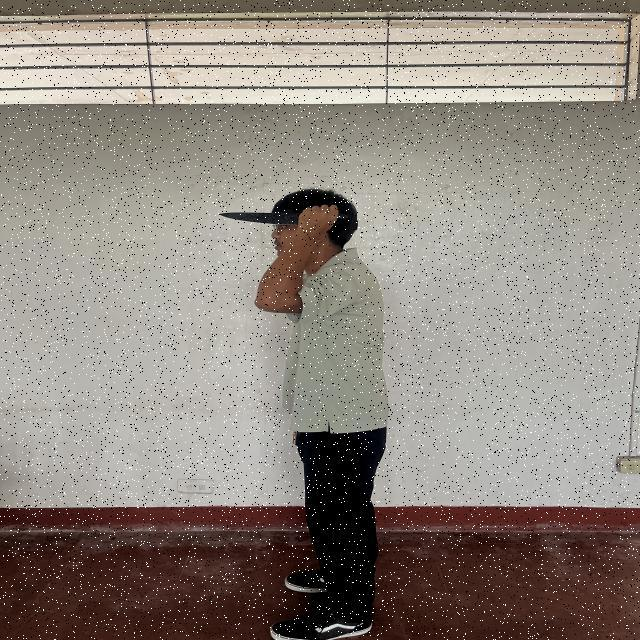knife: (221, 208, 345, 226)
non-violence: (220, 190, 386, 640)
